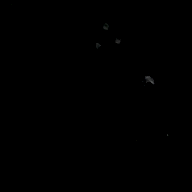v: (94, 21, 120, 47)
